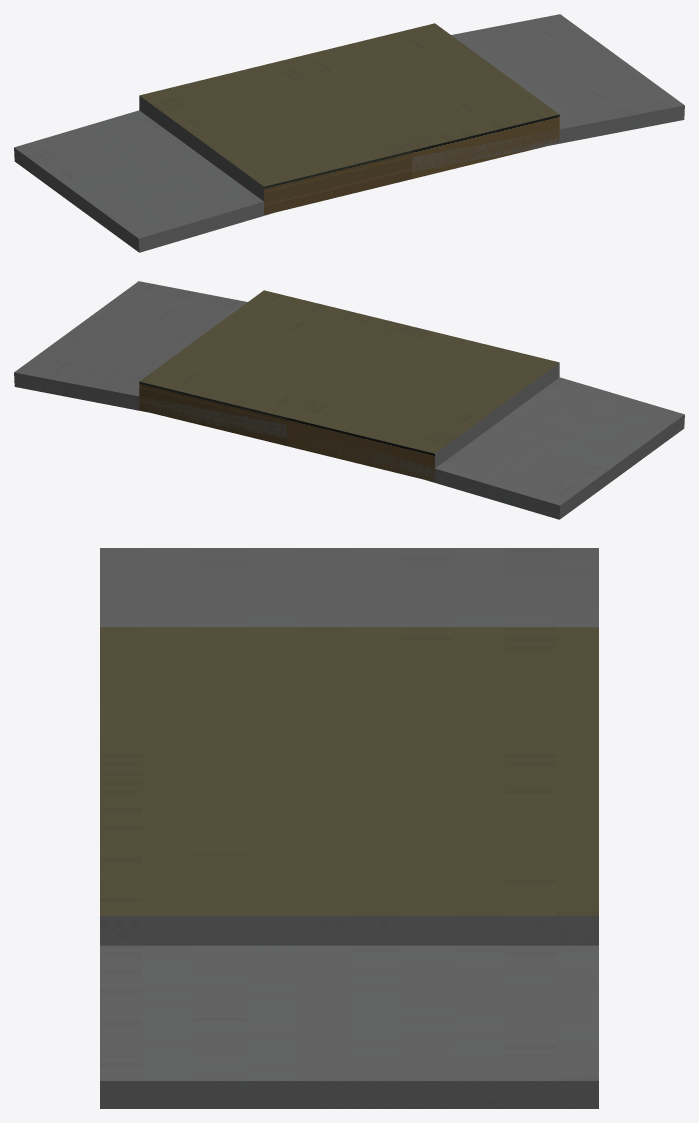
File: prop_textbook-2.glb
The picture shows the model from 3 angles, top to bottom: view 1: azimuth 30°, elevation 25°; view 2: azimuth 150°, elevation 25°; view 3: azimuth 270°, elevation 25°; orthographic projection. The views are drawn at different scales.
Visible parts, largest first — view 1: prop_textbook-2; view 2: prop_textbook-2; view 3: prop_textbook-2.
Part boxes in pixels (left/top/right/bottom): prop_textbook-2: left=14, top=14, right=684, bottom=252; prop_textbook-2: left=14, top=281, right=684, bottom=519; prop_textbook-2: left=100, top=548, right=598, bottom=1108.
Bounding box in the file's own units: 0.4803 × 0.03 × 0.19.
3 materials, 3 textured.
